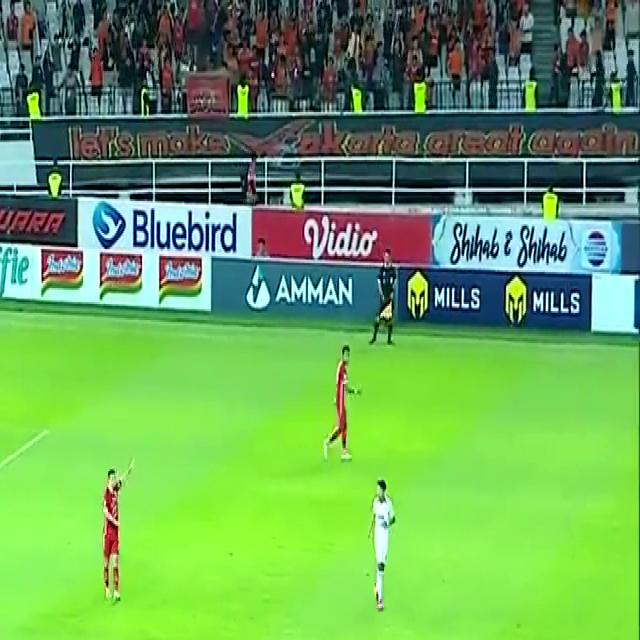referee: (367, 260, 406, 351)
soccer-player: (94, 458, 145, 613), (357, 473, 405, 619), (319, 346, 368, 469)
